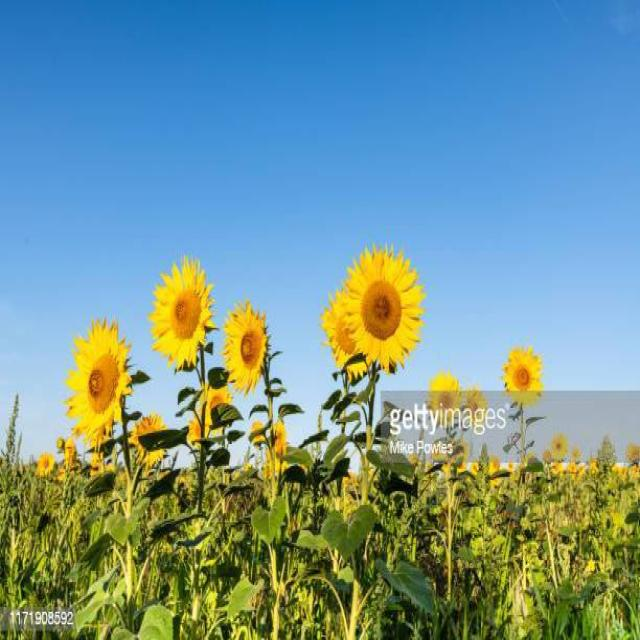sunflower: (342, 242, 425, 374), (64, 315, 133, 447), (148, 254, 214, 370), (321, 289, 370, 380), (222, 300, 268, 394), (501, 346, 543, 406), (129, 411, 167, 467), (431, 375, 458, 424), (204, 383, 230, 419), (466, 389, 484, 424), (190, 413, 208, 442), (36, 450, 54, 477), (553, 433, 566, 457)
